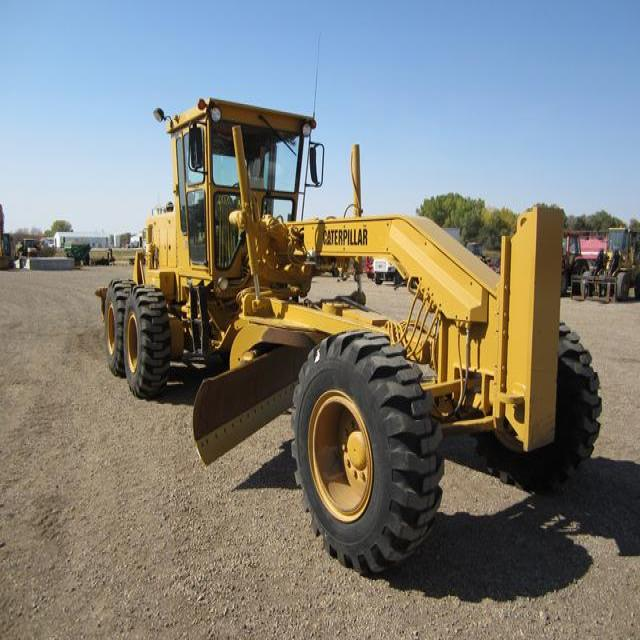buldozerpayloadergrader: (88, 75, 628, 574)
